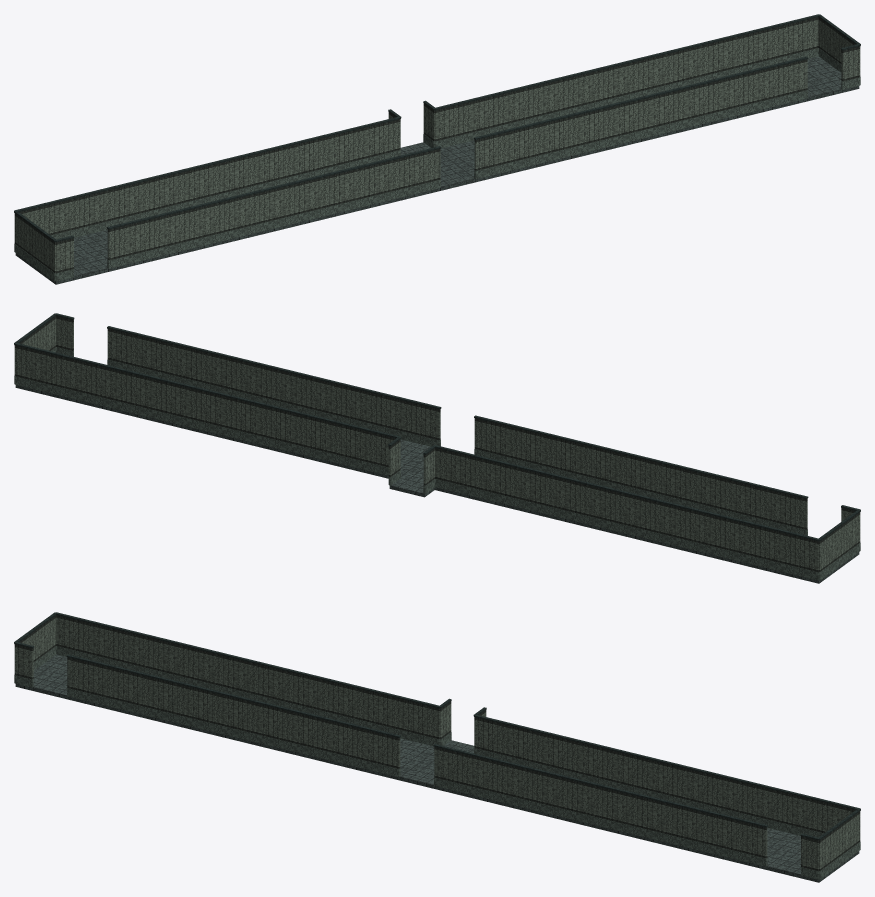
The model's file is FERI_Shared_Landing.fbx.
3 views of the same model, one above another, from view 1: azimuth 30°, elevation 25°; view 2: azimuth 150°, elevation 25°; view 3: azimuth 330°, elevation 25° (orthographic).
Visible parts, largest first — view 1: PL_Shared_Landing_Wall, PL_Shared_Landing_Concrete, PL_Shared_Landing_Floor, PL_Shared_Landing_Iron; view 2: PL_Shared_Landing_Wall, PL_Shared_Landing_Concrete, PL_Shared_Landing_Iron, PL_Shared_Landing_Floor; view 3: PL_Shared_Landing_Wall, PL_Shared_Landing_Concrete, PL_Shared_Landing_Floor, PL_Shared_Landing_Iron.
Part boxes in pixels (box(x1,y1,x2,y2)): PL_Shared_Landing_Wall: box(14, 17, 860, 273); PL_Shared_Landing_Concrete: box(14, 48, 860, 281); PL_Shared_Landing_Floor: box(15, 56, 859, 284); PL_Shared_Landing_Iron: box(14, 14, 860, 242); PL_Shared_Landing_Wall: box(14, 316, 860, 572); PL_Shared_Landing_Concrete: box(14, 347, 860, 580); PL_Shared_Landing_Iron: box(14, 313, 860, 541); PL_Shared_Landing_Floor: box(15, 385, 859, 583); PL_Shared_Landing_Wall: box(14, 615, 860, 871); PL_Shared_Landing_Concrete: box(14, 646, 860, 879); PL_Shared_Landing_Floor: box(15, 654, 859, 882); PL_Shared_Landing_Iron: box(14, 612, 860, 840).
Bounding box in the file's own units: 92.3 × 4.86 × 10.19.
4 materials, 4 textured.
